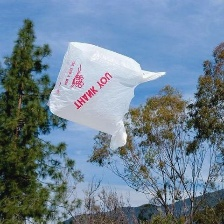plastic_bag: (42, 36, 168, 153)
